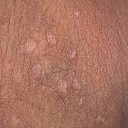Wart: (25, 32, 88, 101)
